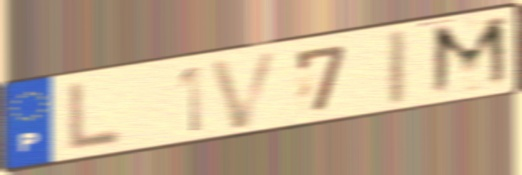1: (177, 64, 205, 133)
7: (291, 41, 349, 115)
I: (383, 26, 411, 110)
L: (63, 78, 126, 155)
M: (427, 13, 515, 100)
V: (206, 46, 286, 133)
